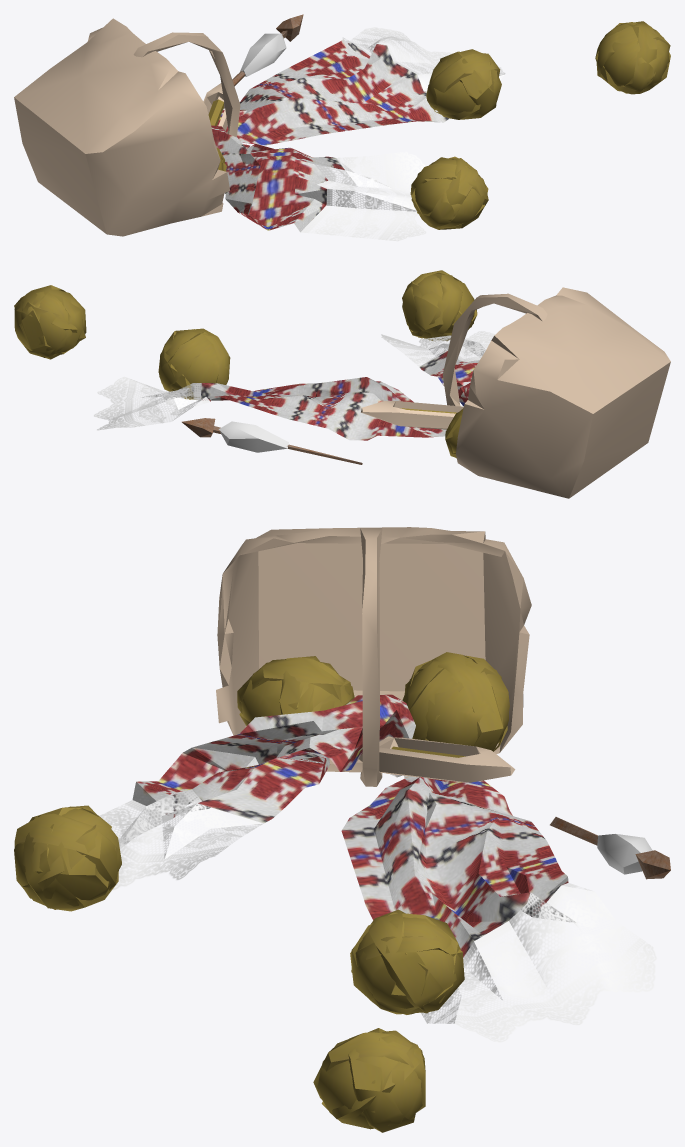
File: basket-knitting.lod1.glb
3 views of the same model, one above another, from view 1: azimuth 30°, elevation 25°; view 2: azimuth 150°, elevation 25°; view 3: azimuth 270°, elevation 25° (orthographic). The views are drawn at different scales.
Visible parts, largest first — view 1: basket-knitting; view 2: basket-knitting; view 3: basket-knitting.
Boxes of the visible parts, <box> form: basket-knitting: <box>14,14,670,241</box>; basket-knitting: <box>14,270,670,498</box>; basket-knitting: <box>14,527,670,1132</box>.
Bounding box in the file's own units: 0.4997 × 0.1303 × 0.3062.
Materials: 7 (4 with a texture image).
